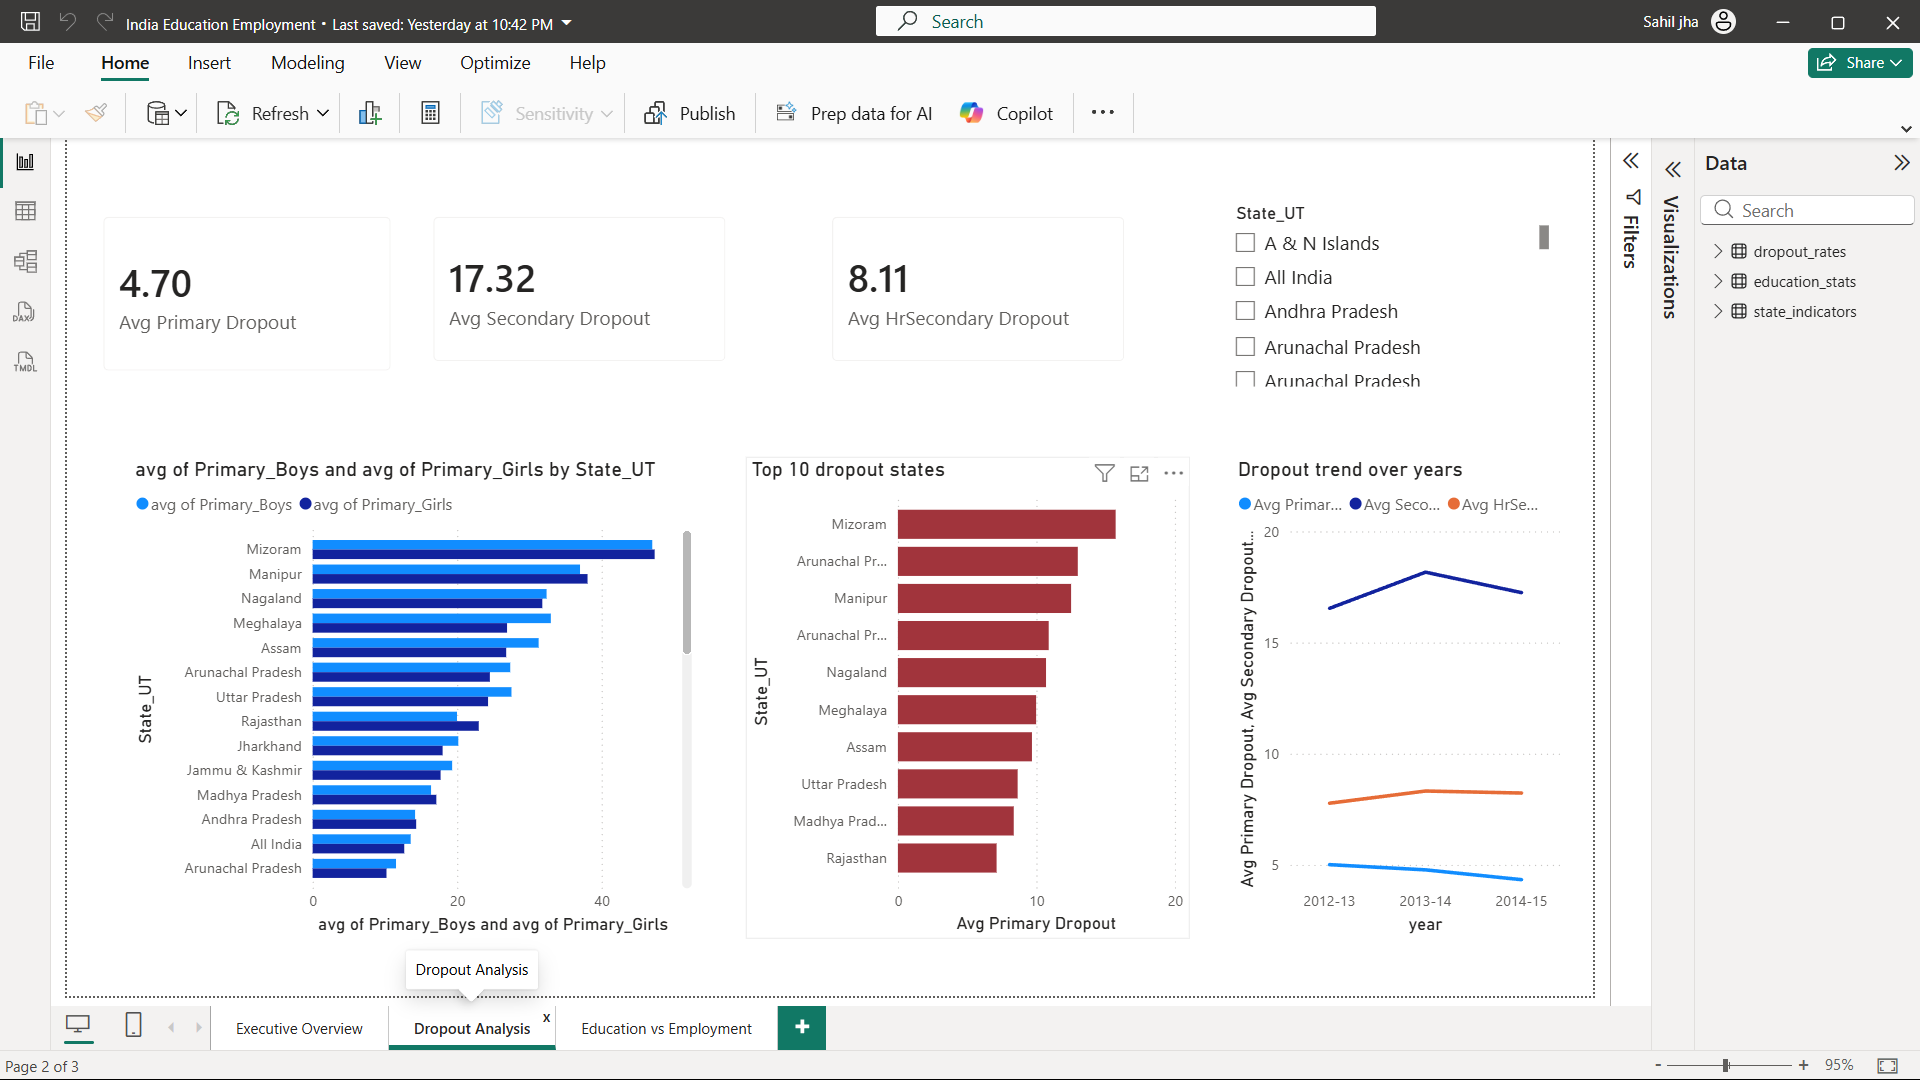

The page's visual inventory and layout, read from the dashboard file:
{"tool":"powerbi","page":{"name":" Dropout Analysis","canvas":[1280,720],"ordinal":1},"visuals":[{"type":"cardVisual","fields":{"Data":["dropout_rates.Avg Primary Dropout"]},"box":[14,48.8,275.6,164],"z":0},{"type":"cardVisual","fields":{"Data":["dropout_rates.Avg Secondary Dropout"]},"box":[290.7,48.8,279.1,155.8],"z":1000},{"type":"cardVisual","fields":{"Data":["dropout_rates.Avg HrSecondary Dropout"]},"box":[624.4,48.8,279.1,155.8],"z":2000},{"type":"barChart","title":"Top 10 dropout states","fields":{"Category":["dropout_rates.State_UT"],"Y":["dropout_rates.Avg Primary Dropout"]},"box":[569.8,267.4,372.1,404.7],"z":3000},{"type":"lineChart","title":"Dropout trend over years","fields":{"Category":["dropout_rates.year"],"Y":["dropout_rates.Avg Primary Dropout","dropout_rates.Avg Secondary Dropout","dropout_rates.Avg HrSecondary Dropout"]},"box":[976.7,267.4,280.2,404.7],"z":4000},{"type":"clusteredBarChart","fields":{"Category":["dropout_rates.State_UT"],"Y":["Sum(dropout_rates.Primary_Boys)","Sum(dropout_rates.Primary_Girls)"]},"box":[52.3,267.4,476.7,404.7],"z":5000},{"type":"slicer","fields":{"Values":["dropout_rates.State_UT"]},"box":[967.4,48.8,280.2,164],"z":6000}]}

Visuals, with their boxes on the page's 1280x720 design canvas (x1, y1, x2, y2). These are canvas units, not pixel positions in the 1920x1080 screenshot, which may show the page scaled, cropped or inside an application window:
cardVisual - dropout_rates.Avg Primary Dropout: locate(14, 49, 290, 213)
cardVisual - dropout_rates.Avg Secondary Dropout: locate(291, 49, 570, 205)
cardVisual - dropout_rates.Avg HrSecondary Dropout: locate(624, 49, 904, 205)
"Top 10 dropout states" barChart: locate(570, 267, 942, 672)
"Dropout trend over years" lineChart: locate(977, 267, 1257, 672)
clusteredBarChart - dropout_rates.State_UT x Sum(dropout_rates.Primary_Boys): locate(52, 267, 529, 672)
slicer - dropout_rates.State_UT: locate(967, 49, 1248, 213)
